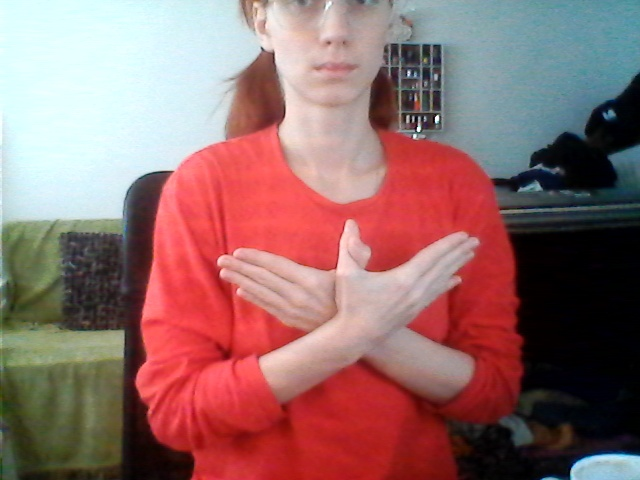lekar: (215, 207, 499, 374)
